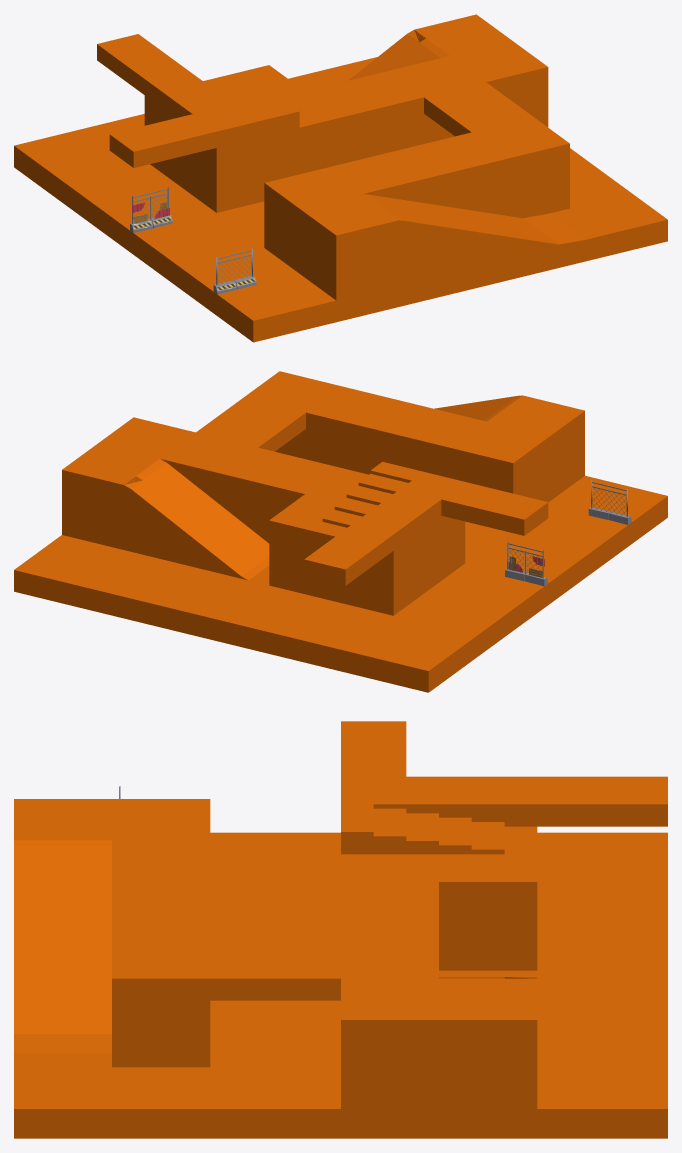
The model's file is map_simple.glb.
3 renders of one model, top to bottom at view 1: azimuth 30°, elevation 25°; view 2: azimuth 150°, elevation 25°; view 3: azimuth 270°, elevation 25°, orthographic. The views are drawn at different scales.
Parts seen in each view (by area): view 1: Map, Barrier_Fixed, Barrier_Large; view 2: Map, Barrier_Fixed, Barrier_Large; view 3: Map.
Part boxes in pixels (x1,y1,x2,y2): Map: (14,14,667,342); Barrier_Fixed: (130,187,172,232); Barrier_Large: (213,248,256,294); Map: (14,371,667,692); Barrier_Fixed: (505,541,547,586); Barrier_Large: (588,480,631,524); Map: (14,721,667,1138).
Size of the model in its own units: 40 by 9.5 by 40.
Materials: 13 (2 with a texture image).
